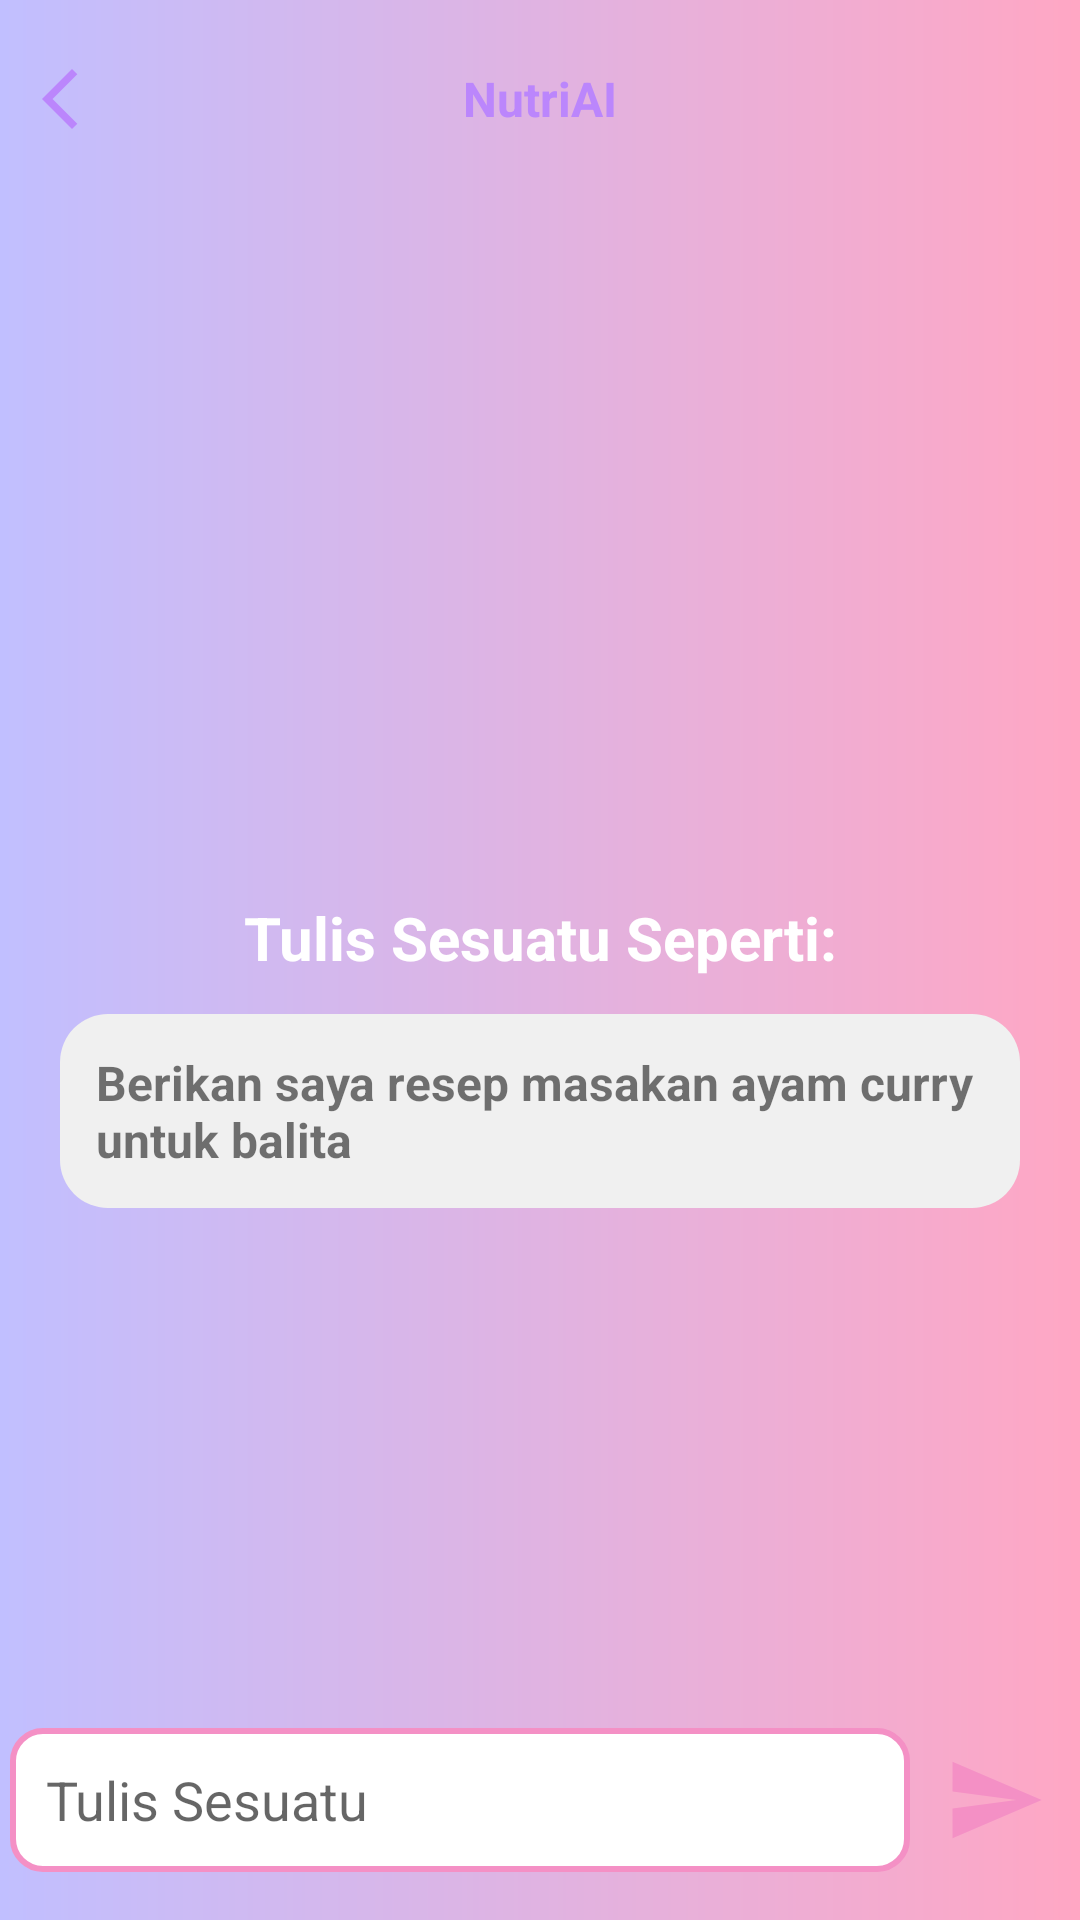

Where to tap for icons on this 1080w x 1920h app screen, as (x=x, y=y):
back: (x=59, y=99)
send: (x=996, y=1800)
